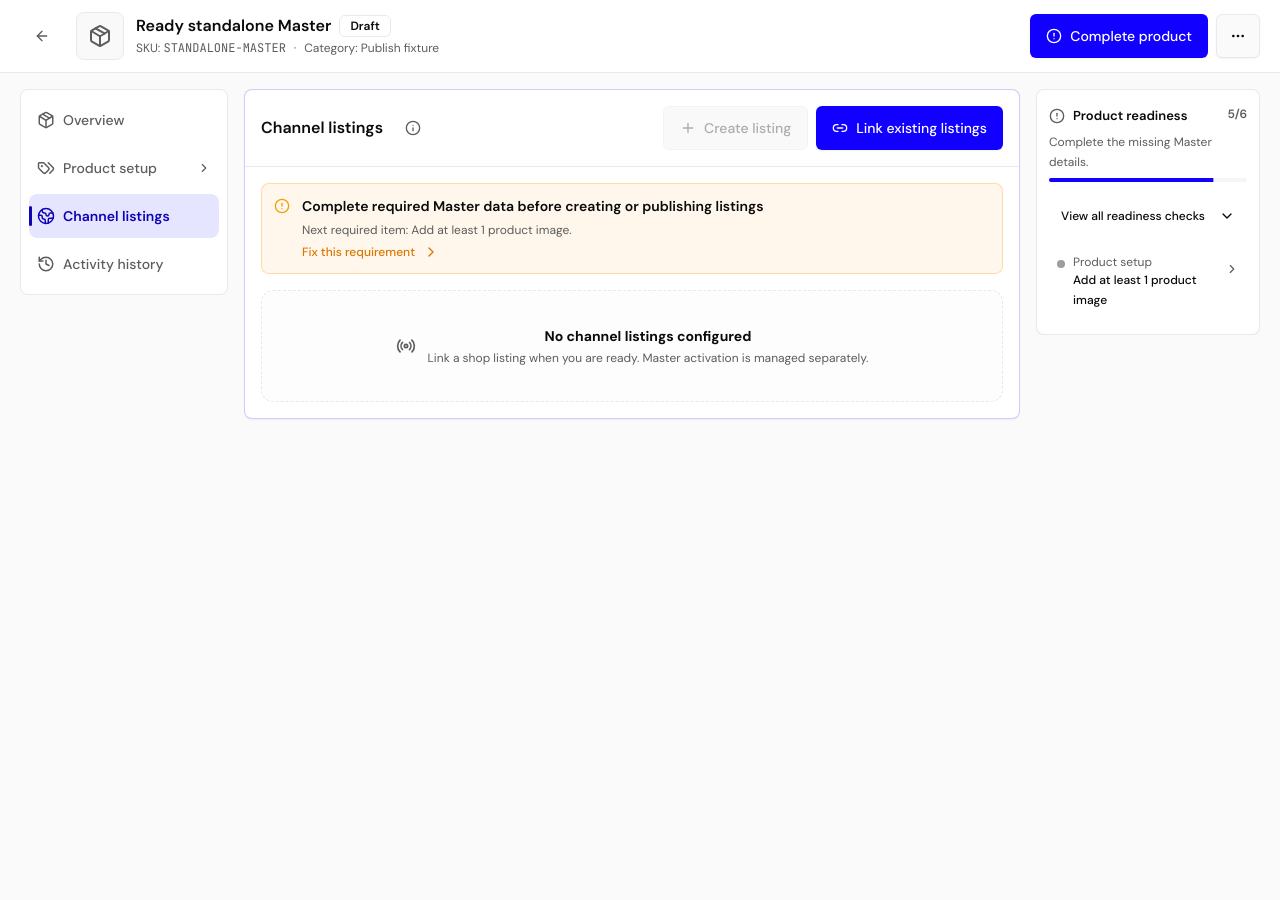
it: Publishing Product Master without channel listings › still blocks missing Master fields and lists only actual requirements
Step 1. Click the button "Complete product" → (1119, 36), box [1030, 14, 1208, 58]
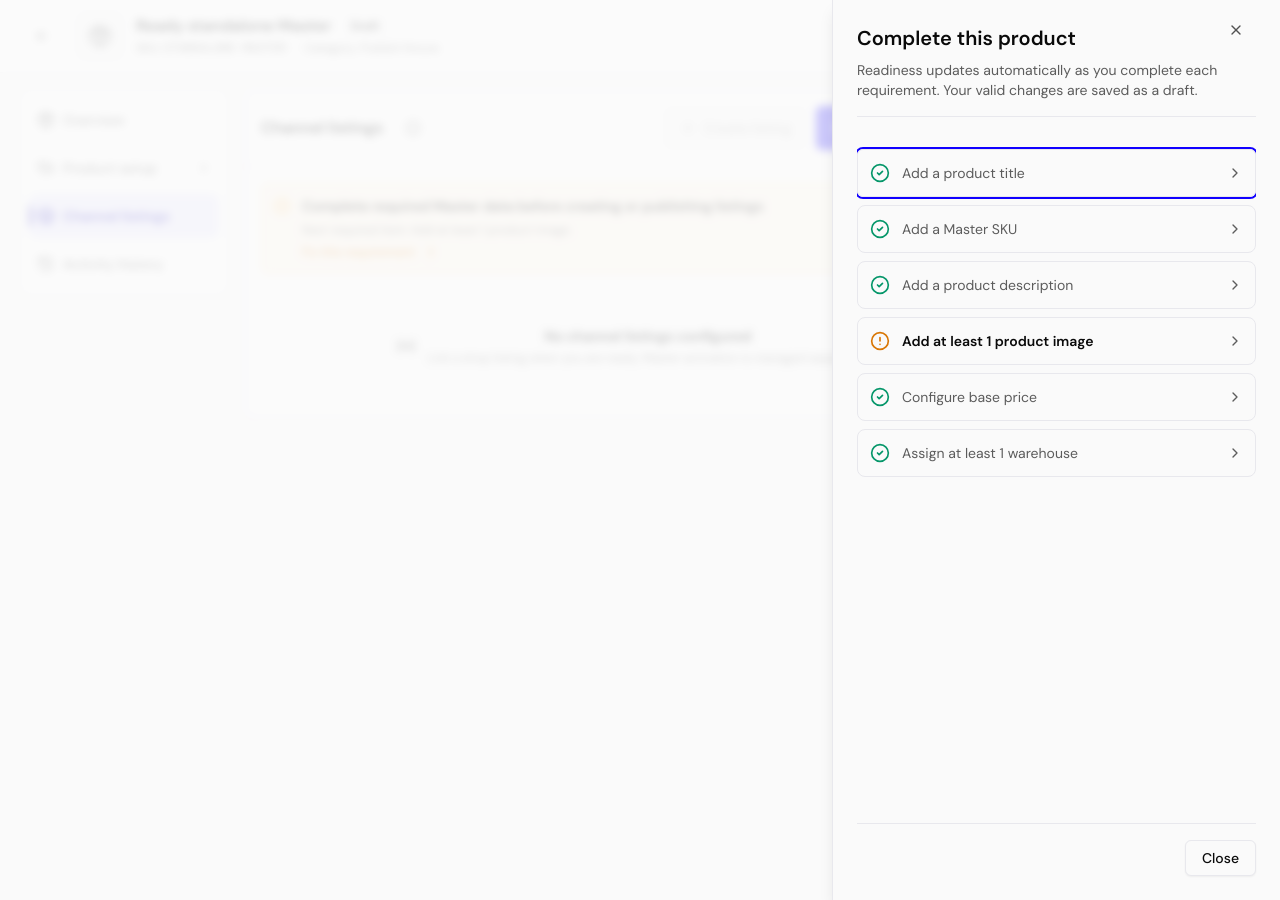
Now the text "Add at least 1 product image" is shown, box [902, 332, 1094, 350]
